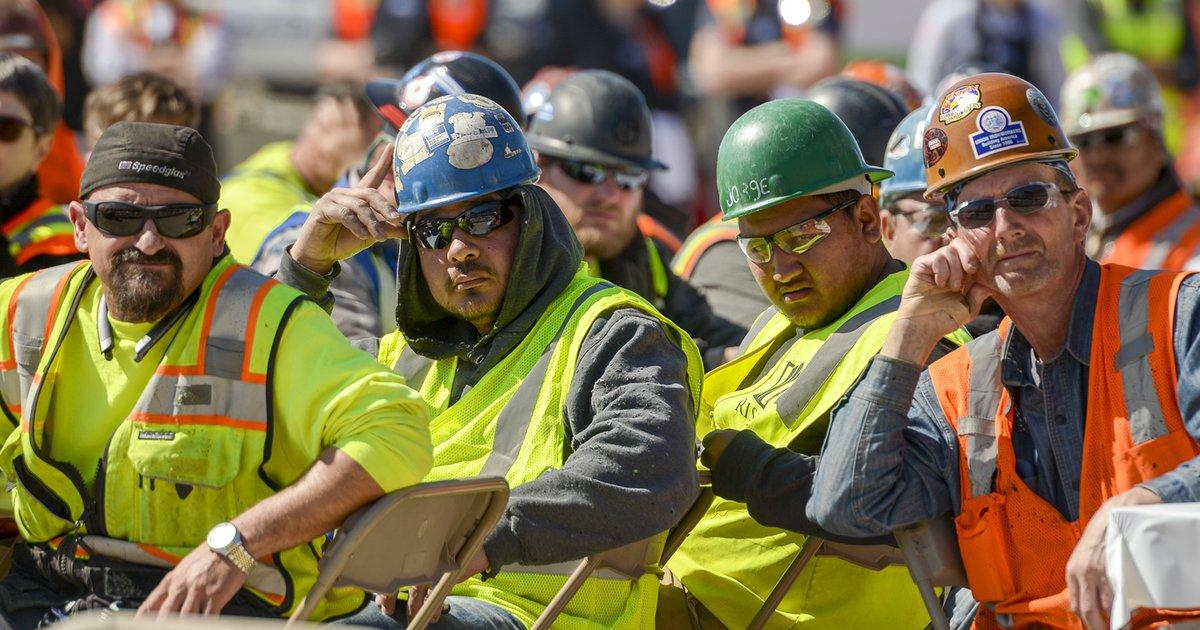helmet: (715, 100, 893, 211), (920, 73, 1078, 194), (392, 93, 543, 210), (73, 119, 228, 209), (527, 67, 665, 167), (364, 55, 531, 135), (805, 69, 912, 170), (1058, 49, 1169, 131), (878, 99, 945, 212)
